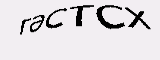Г: (88, 21, 102, 42)
Л: (60, 26, 78, 44)
С: (48, 22, 64, 45)
У: (101, 19, 118, 41), (76, 23, 90, 43)
